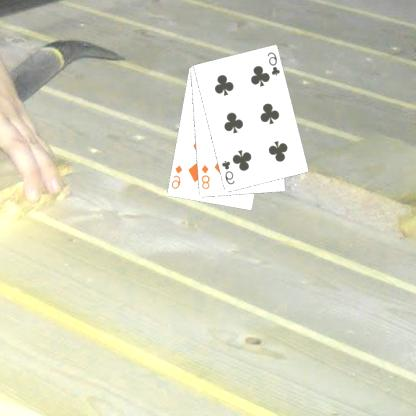6C: (221, 158, 238, 186), (266, 50, 283, 78)
8D: (200, 162, 212, 191)
9D: (170, 162, 186, 190)
